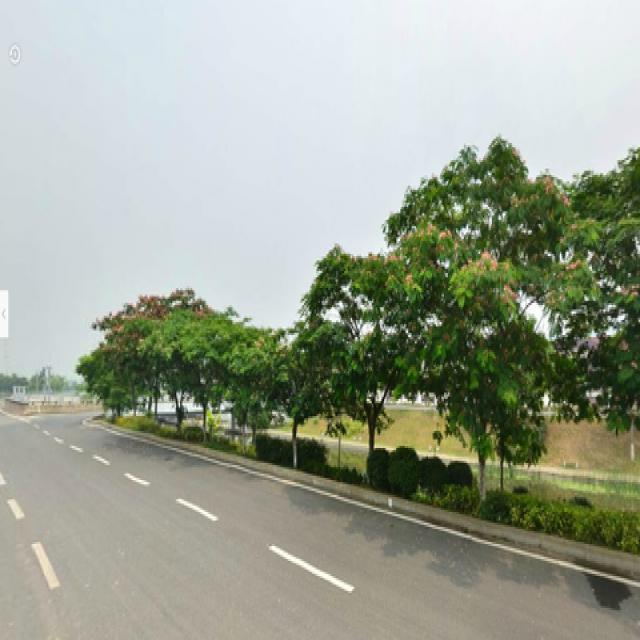albi: (379, 152, 577, 499)
